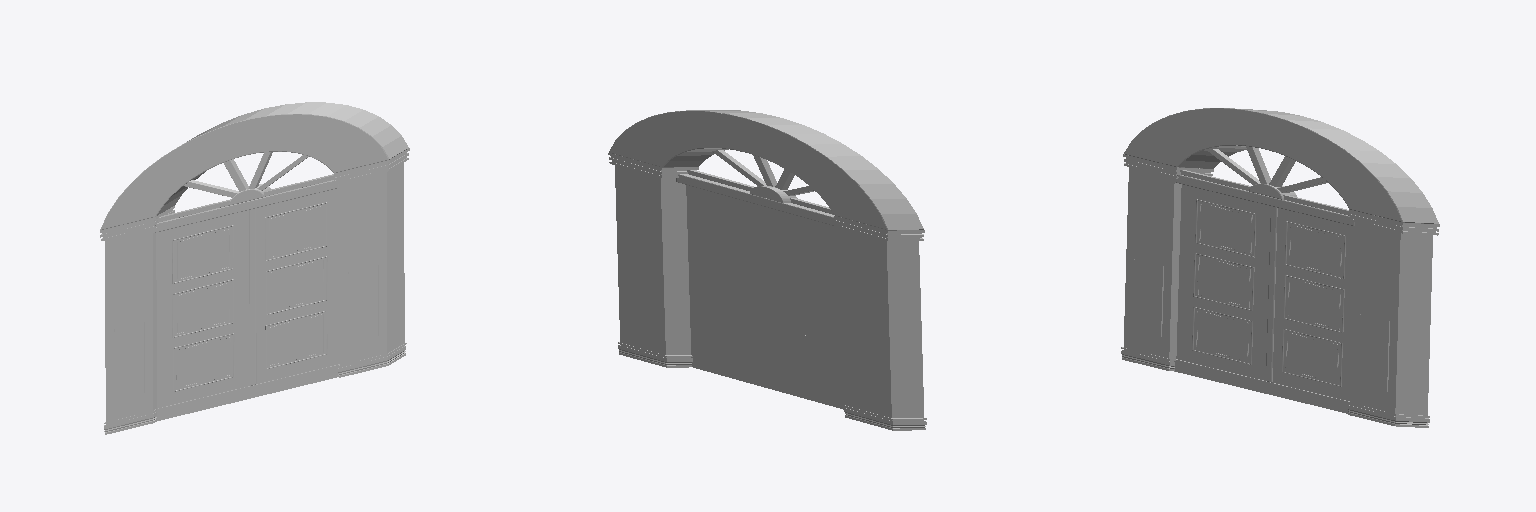
File: door2.obj
The picture shows the model from 3 angles: view 1: azimuth 30°, elevation 25°; view 2: azimuth 150°, elevation 25°; view 3: azimuth 330°, elevation 25°; orthographic projection.
Parts seen in each view (by area): view 1: object12; view 2: object12; view 3: object12.
Boxes of the visible parts, x1=… form: object12: x1=100, y1=102, x2=409, y2=434; object12: x1=608, y1=110, x2=926, y2=430; object12: x1=1121, y1=108, x2=1439, y2=427.
Size of the model in its own units: 5.93 by 5.07 by 0.5363.